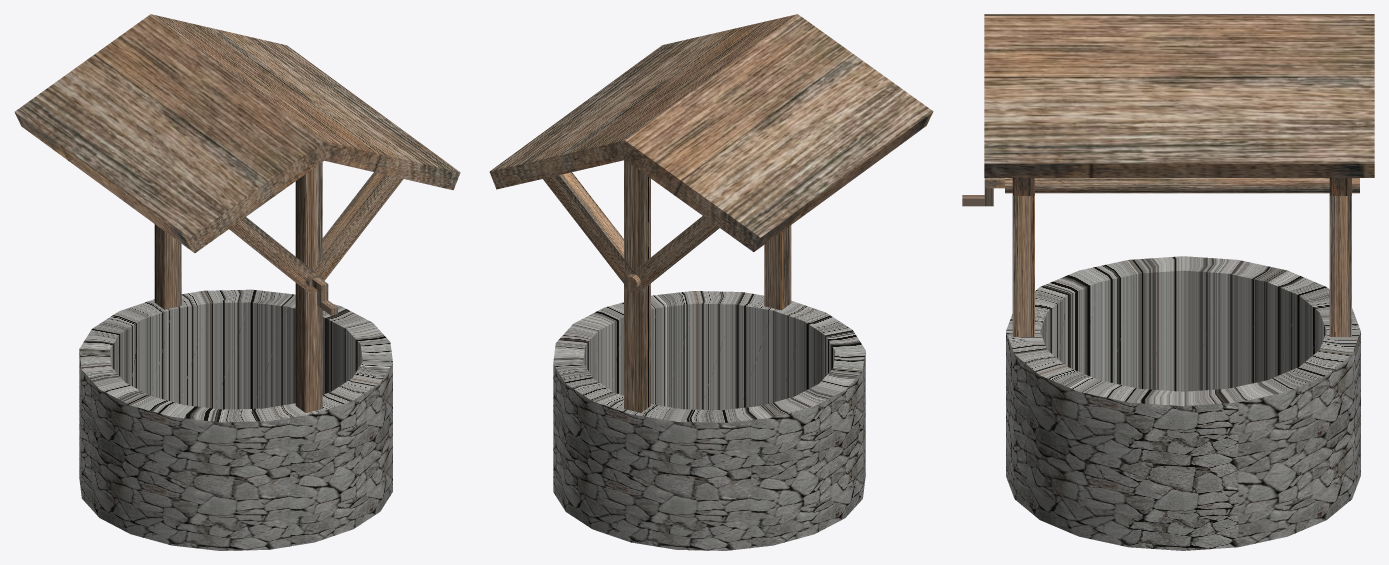
Rendered from Well.fbx.
3 views of the same model, side by side, from view 1: azimuth 30°, elevation 25°; view 2: azimuth 150°, elevation 25°; view 3: azimuth 270°, elevation 25° (orthographic). The views are drawn at different scales.
Parts seen in each view (by area): view 1: wellBase, wellRoof, wellRoof1, pasted__pCube12, pasted__pasted__pasted__pCube13, pCube12, pasted__pasted__pCube13; view 2: wellBase, wellRoof, wellRoof1, pCube12, pasted__pasted__pasted__pasted__pCube13, pasted__pCube12, pasted__pCube13; view 3: wellBase, wellRoof1, wellRotator, pasted__pCube12, pCube12, wellRoof, wellHandle.
Boxes of the visible parts, x1,y1,x2,y2 form: wellBase: (79,289,392,550); wellRoof: (14,14,331,252); wellRoof1: (151,14,460,190); pasted__pCube12: (295,162,322,412); pasted__pasted__pasted__pCube13: (304,172,403,292); pCube12: (154,224,181,309); pasted__pasted__pCube13: (229,217,312,293); wellBase: (553,291,865,550); wellRoof: (618,14,933,251); wellRoof1: (489,14,797,189); pCube12: (624,160,650,412); pasted__pasted__pasted__pasted__pCube13: (543,172,642,292); pasted__pCube12: (764,225,791,310); pasted__pCube13: (634,216,719,293); wellBase: (1006,256,1360,550); wellRoof1: (984,16,1374,177); wellRotator: (1005,178,1359,193); pasted__pCube12: (1012,178,1034,336); pCube12: (1329,196,1351,336); wellRoof: (984,14,1374,15); wellHandle: (962,178,1004,206).
Bounding box in the file's own units: 2 × 2.86 × 2.32.
